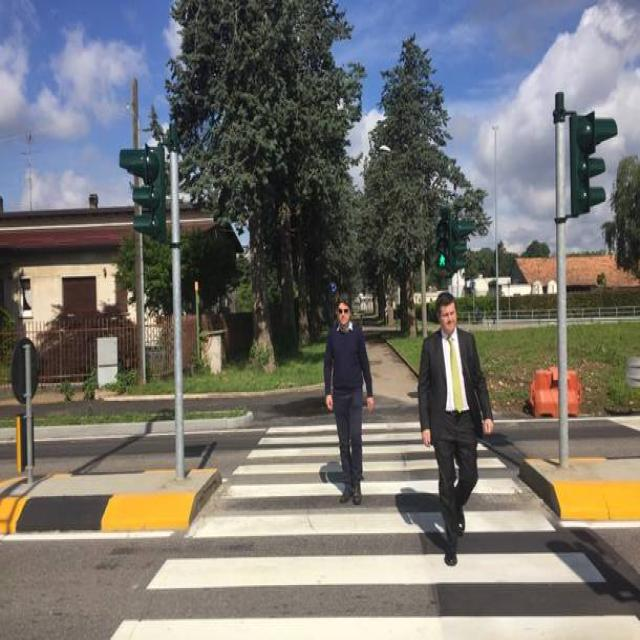Pedestrian crosswalk: (113, 415, 639, 633)
Person: (417, 290, 495, 570), (322, 292, 376, 506)
